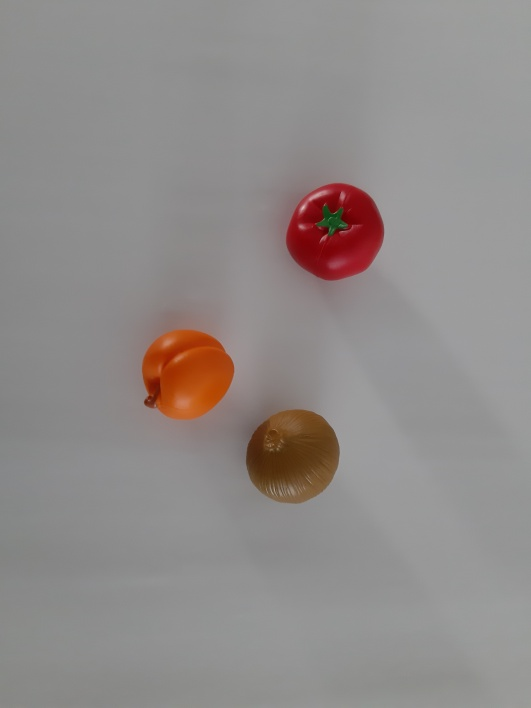apricot: (119, 316, 240, 428)
onion: (235, 401, 359, 511)
tomato: (265, 167, 401, 294)
